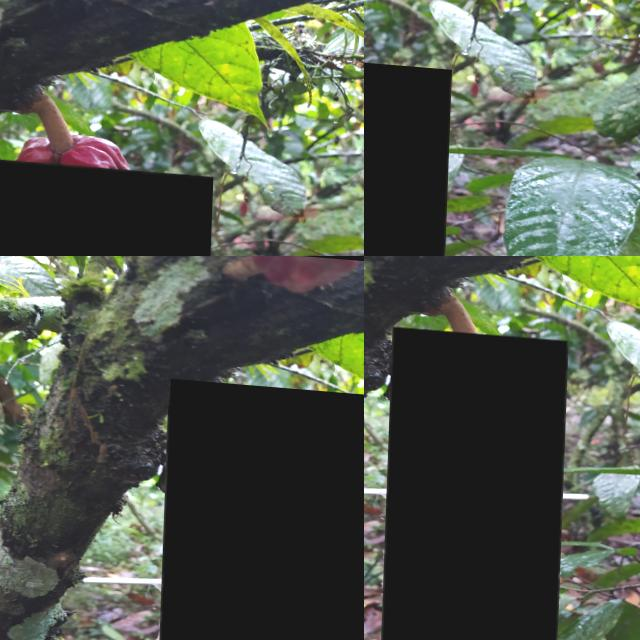Monilia: (382, 323, 569, 640), (364, 45, 453, 256)
Sana: (158, 375, 364, 640), (0, 153, 215, 256)
